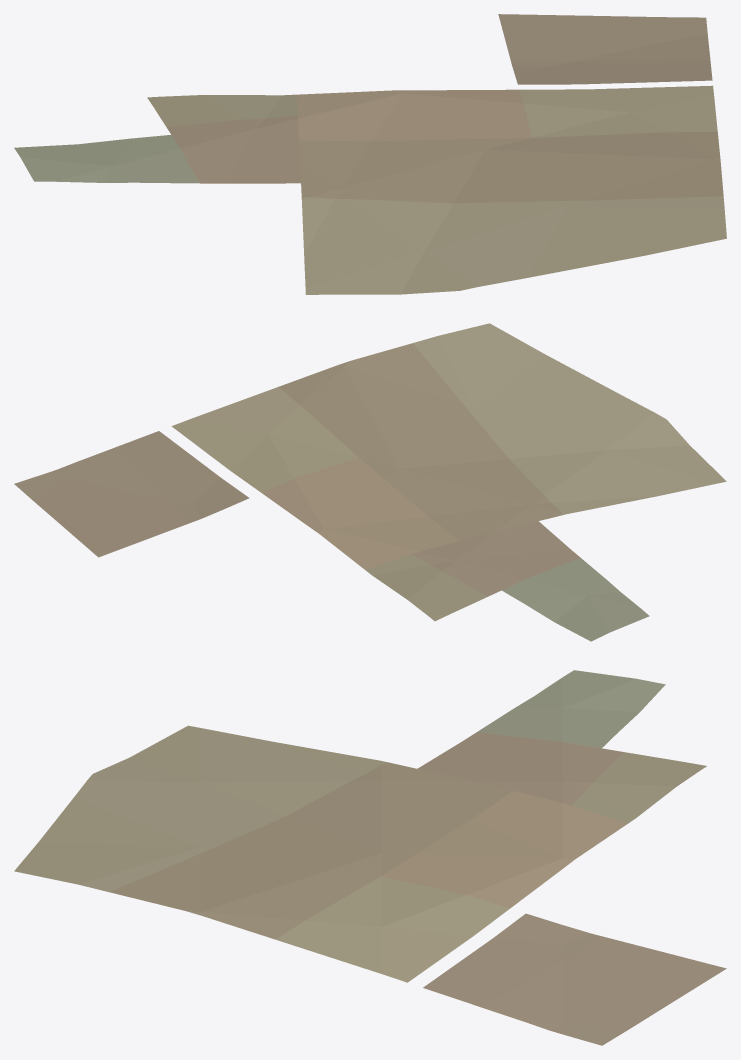
The model's file is farm_-7_13_soil.glb.
3 views of the same model, one above another, from view 1: azimuth 30°, elevation 25°; view 2: azimuth 150°, elevation 25°; view 3: azimuth 270°, elevation 25° (orthographic). The views are drawn at different scales.
Visible parts, largest first — view 1: geometry_0; view 2: geometry_0; view 3: geometry_0.
Boxes of the visible parts, left/top/right/bottom form: geometry_0: left=14, top=14, right=726, bottom=294; geometry_0: left=14, top=323, right=726, bottom=641; geometry_0: left=14, top=670, right=726, bottom=1045.
Bounding box in the file's own units: 379 × 22.14 × 315.
